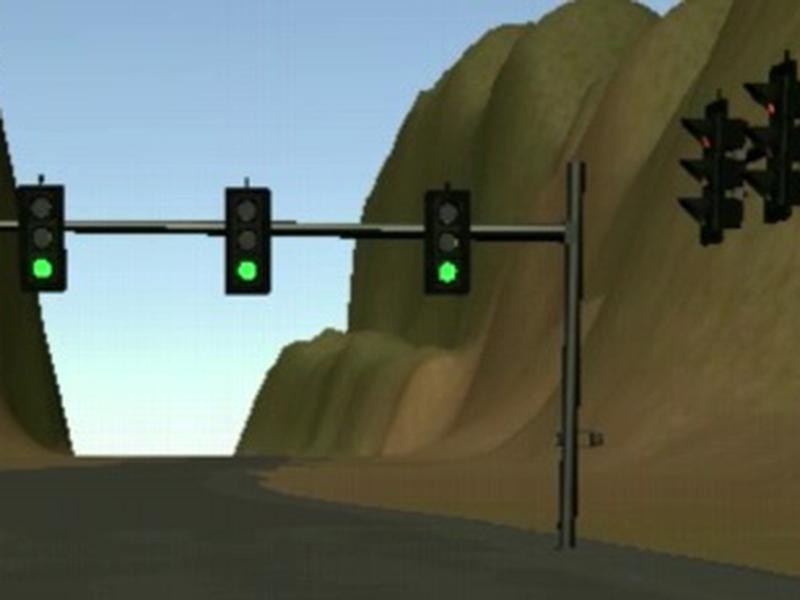Green: (16, 184, 67, 293), (423, 190, 472, 297), (224, 187, 271, 296)
